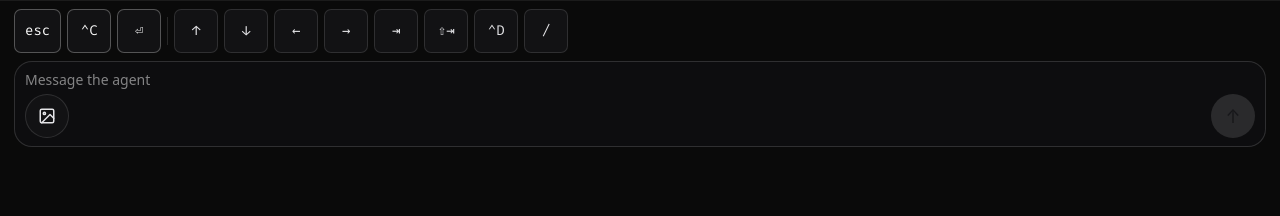
Test: Composer › typing a slash query surfaces matching commands
Type "/cl" into the text box with placeholder "Message the agent". click: (640, 80)
box: [25,70,1255,90]
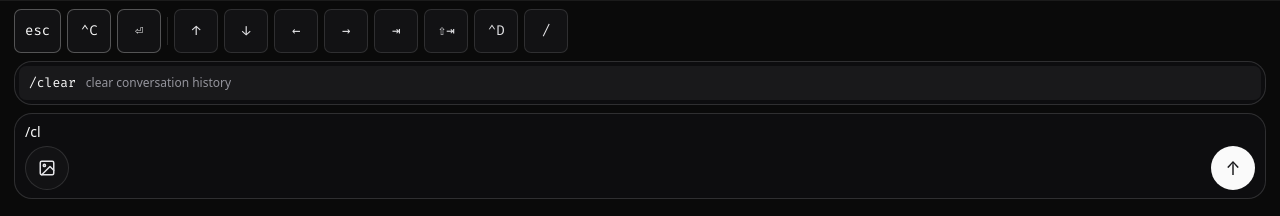
Expected: the option "/clear clear conversation history" is shown, [19,66,1261,100]
